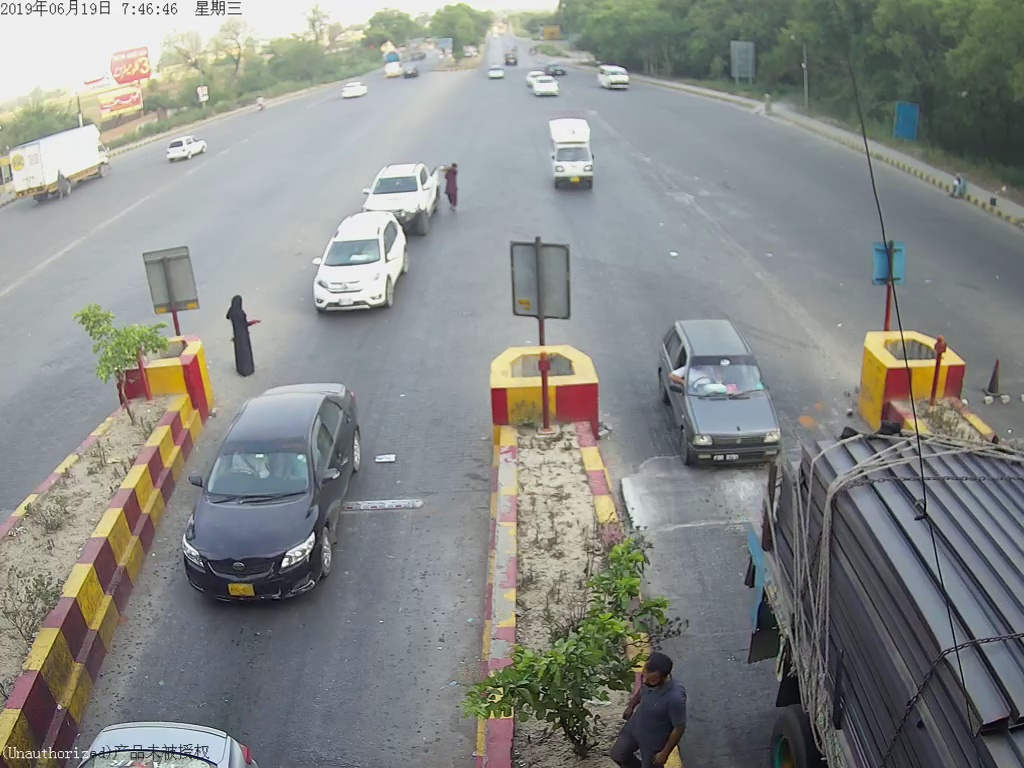Cat-1: (180, 392, 361, 588), (646, 317, 782, 480), (307, 219, 406, 319), (363, 158, 439, 214), (546, 117, 600, 193)
